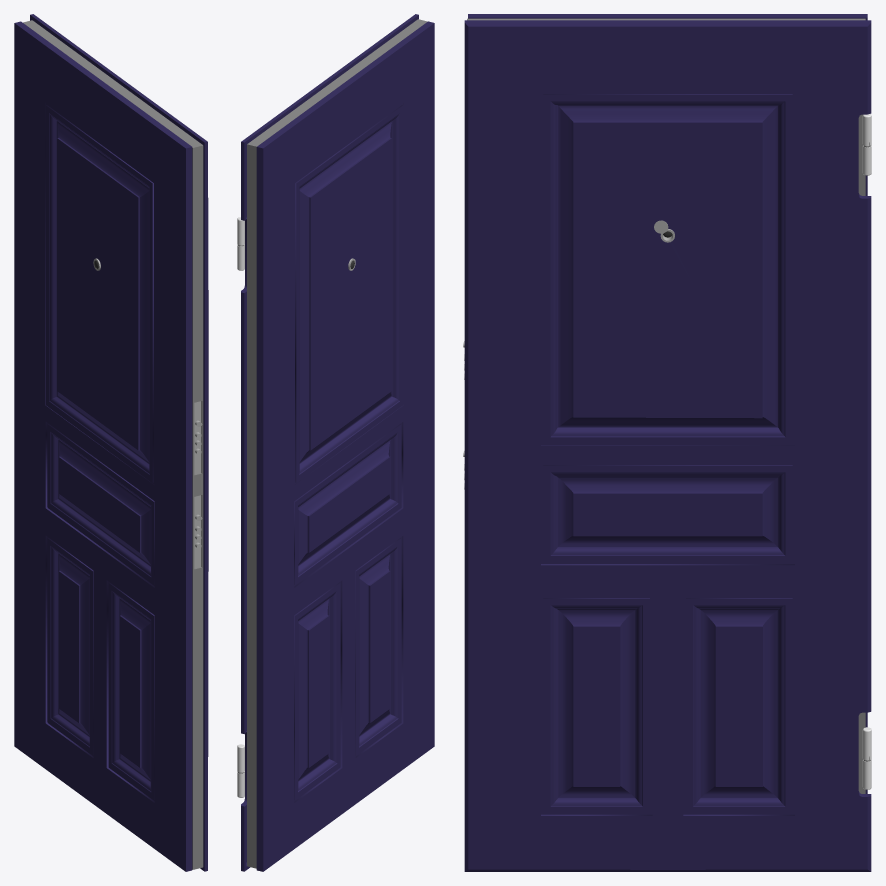
The model's file is 2063_DOOR.glb.
3 renders of one model, left to right at view 1: azimuth 30°, elevation 25°; view 2: azimuth 150°, elevation 25°; view 3: azimuth 270°, elevation 25°, orthographic. The views are drawn at different scales.
Parts seen in each view (by area): view 1: 2063_DOOR; view 2: 2063_DOOR; view 3: 2063_DOOR.
Boxes of the visible parts, left/top/right/bottom form: 2063_DOOR: left=14, top=14, right=208, bottom=871; 2063_DOOR: left=237, top=14, right=434, bottom=871; 2063_DOOR: left=463, top=14, right=871, bottom=871.
Size of the model in its own units: 0.0903 by 2.07 by 0.9042.
